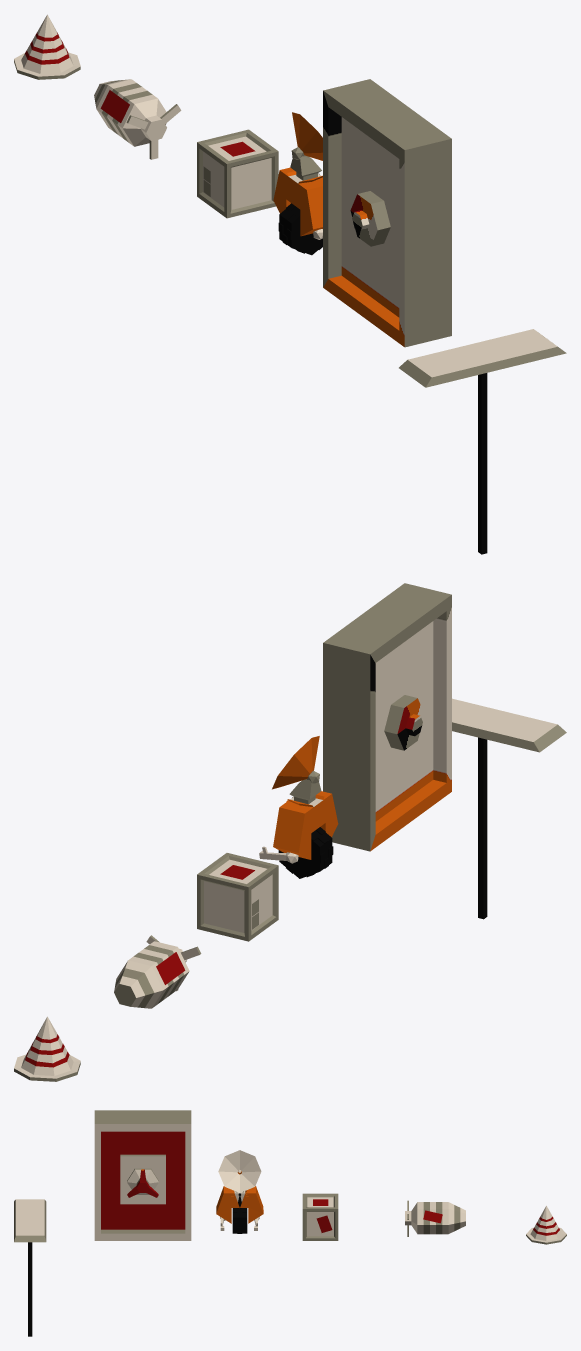
The model's file is blendAssets.fbx.
3 views of the same model, one above another, from view 1: azimuth 30°, elevation 25°; view 2: azimuth 150°, elevation 25°; view 3: azimuth 270°, elevation 25° (orthographic). The views are drawn at different scales.
Parts seen in each view (by area): view 1: Door, Platform, Box, Bomb, PlayerBody, Cone, PlayerWheel, PlayerHead; view 2: Door, Box, Platform, Bomb, PlayerBody, Cone, PlayerWheel, PlayerHead; view 3: Door, Platform, Box, Bomb, PlayerHead, PlayerBody, Cone, PlayerWheel.
Part boxes in pixels (x1,y1,x2,y2): Door: (323,79,451,347); Platform: (399,329,566,554); Box: (197,129,278,218); Bomb: (94,79,181,159); PlayerBody: (273,155,322,236); Cone: (14,14,80,79); PlayerWheel: (278,203,322,255); PlayerHead: (291,112,322,160); Door: (323,583,451,851); Box: (197,853,278,941); Platform: (452,698,566,919); Bomb: (114,935,201,1008); PlayerBody: (273,779,338,859); Cone: (14,1016,80,1081); PlayerWheel: (278,827,333,878); PlayerHead: (272,736,319,789); Door: (94,1110,191,1240); Platform: (14,1199,46,1336); Box: (302,1193,338,1240); Bomb: (405,1200,465,1236); PlayerHead: (218,1150,261,1192); PlayerBody: (216,1186,263,1223); Cone: (526,1205,566,1244); PlayerWheel: (232,1208,247,1233).
Bounding box in the file's own units: 6 × 14.94 × 34.27.
8 materials, 8 textured.
